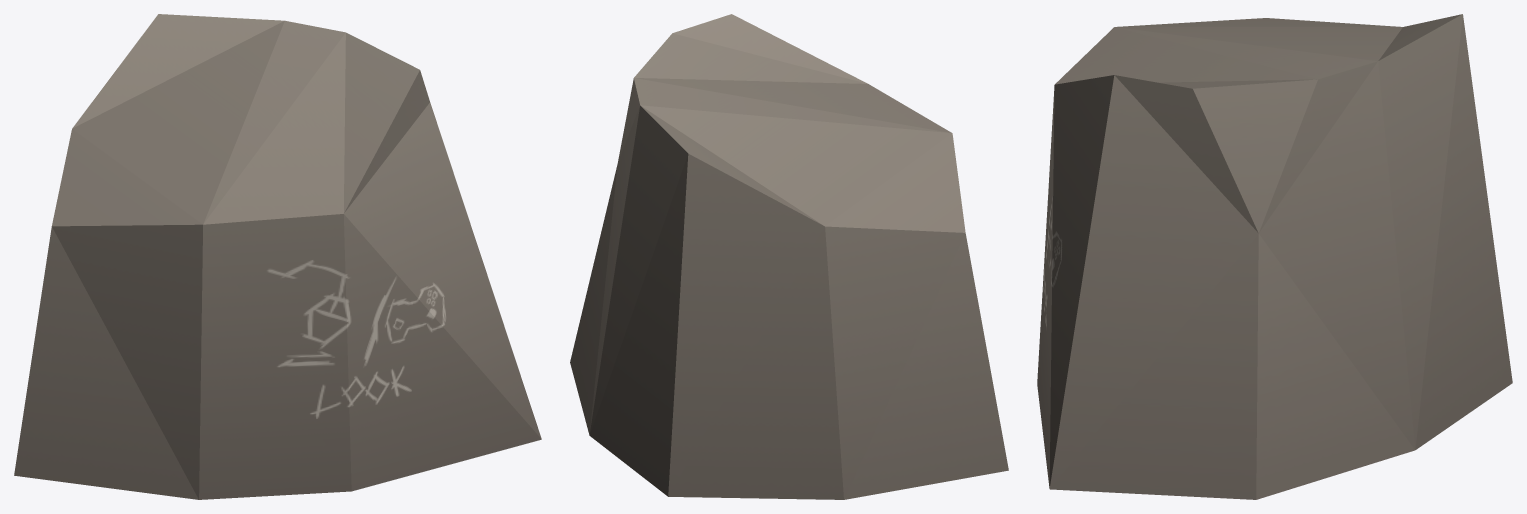
File: look_tuto.fbx
3 views of the same model, side by side, from view 1: azimuth 30°, elevation 25°; view 2: azimuth 150°, elevation 25°; view 3: azimuth 270°, elevation 25° (orthographic). The views are drawn at different scales.
Visible parts, largest first — view 1: Cylinder.002; view 2: Cylinder.002; view 3: Cylinder.002.
Part boxes in pixels (<box>): Cylinder.002: <box>14,14,541,499</box>; Cylinder.002: <box>570,14,1008,499</box>; Cylinder.002: <box>1037,14,1512,499</box>.
Bounding box in the file's own units: 282 × 200 × 233.
